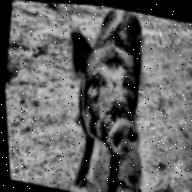boar: (38, 2, 189, 192)
